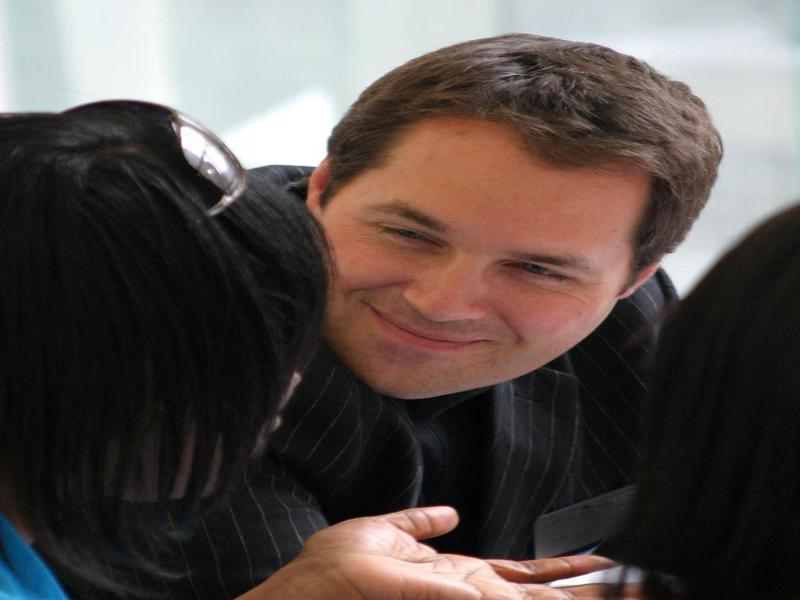person: (106, 18, 705, 563), (9, 99, 615, 600)
